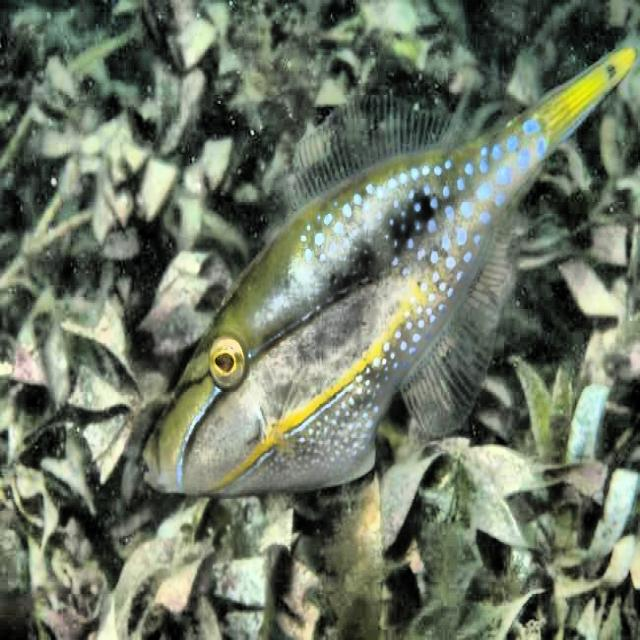fish: (142, 45, 636, 497)
